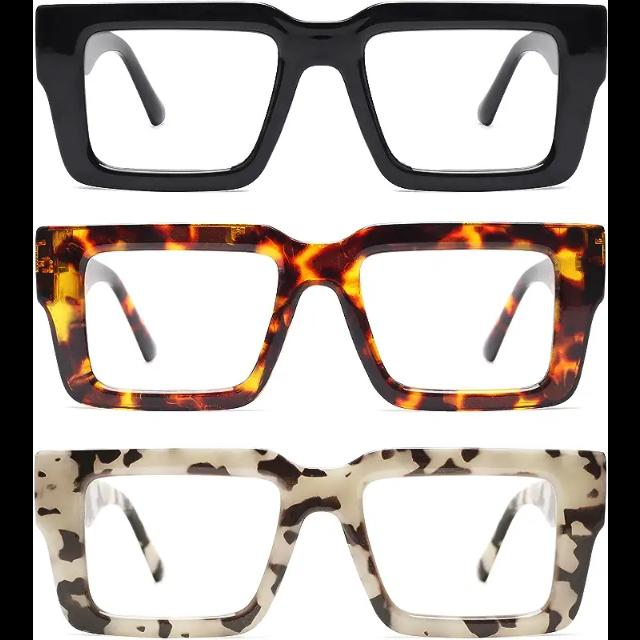glasses: (37, 206, 607, 422), (37, 434, 607, 640), (37, 2, 607, 196)
